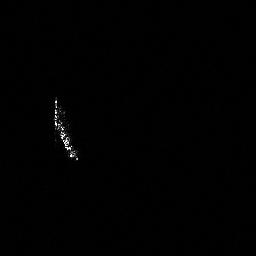ship: (49, 94, 83, 165)
